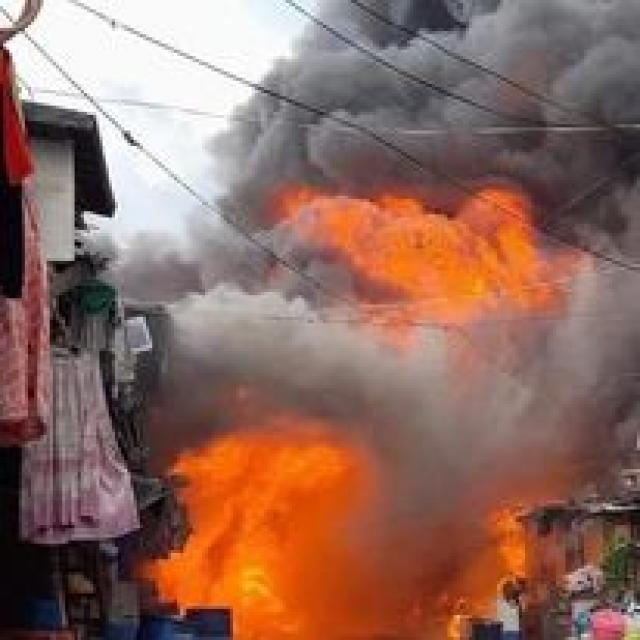Fire: (141, 393, 526, 640), (259, 162, 595, 340)
Smoke: (122, 221, 640, 566), (215, 0, 640, 236)
